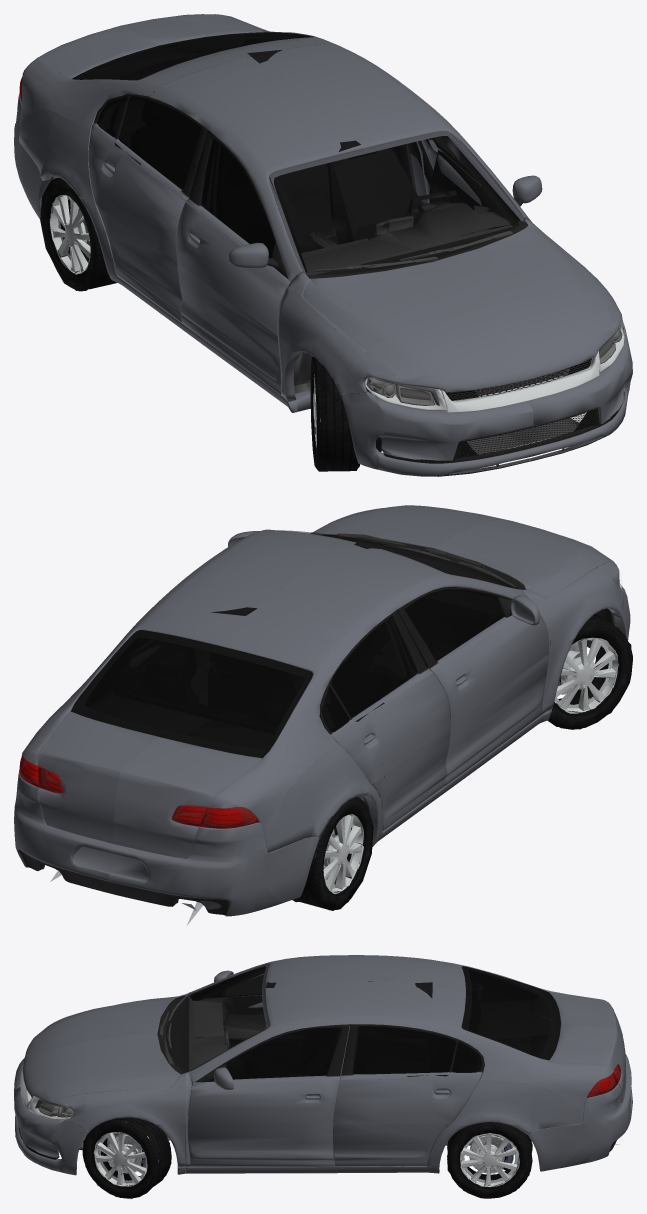
The model's file is sedan.glb.
3 views of the same model, one above another, from view 1: azimuth 30°, elevation 25°; view 2: azimuth 150°, elevation 25°; view 3: azimuth 270°, elevation 25° (orthographic). The views are drawn at different scales.
Visible parts, largest first — view 1: roof, door.R, glass.front, cockpit, nose.R, nose.L, tail.R, wheel.rear.R, glass.rear, wheel.front.R, door.L, tail.L (+4 smaller); view 2: roof, door.R, tail.R, glass.rear, tail.L, wheel.front.R, wheel.rear.R, glass.front, deck, door.L, nose.R, fender.R (+1 smaller); view 3: door.L, roof, tail.L, glass.front, glass.rear, wheel.front.L, wheel.rear.L, cockpit, nose.L, tail.R, door.R, quarter.L (+1 smaller).
Part boxes in pixels (x1,y1,x2,y2): roof: (56, 30, 621, 397); door.R: (16, 76, 359, 412); glass.front: (269, 131, 624, 399); cockpit: (114, 44, 523, 275); nose.R: (340, 355, 533, 476); nose.L: (519, 297, 632, 460); tail.R: (14, 25, 158, 219); wheel.rear.R: (40, 177, 116, 291); glass.rear: (72, 32, 313, 80); wheel.front.R: (310, 356, 360, 471); door.L: (406, 136, 622, 326); tail.L: (121, 14, 277, 47); roof: (37, 505, 619, 804); door.R: (190, 573, 621, 856); tail.R: (109, 736, 319, 916); glass.rear: (70, 630, 313, 758); tail.L: (14, 692, 157, 895); wheel.front.R: (547, 613, 632, 729); wheel.rear.R: (292, 797, 373, 910); glass.front: (279, 530, 518, 588); deck: (126, 634, 363, 734); door.L: (16, 518, 341, 818); nose.R: (581, 561, 630, 647); fender.R: (546, 638, 574, 711); door.L: (86, 1024, 621, 1174); roof: (22, 955, 585, 1108); tail.L: (528, 1023, 632, 1171); glass.front: (30, 964, 269, 1117); glass.rear: (461, 966, 560, 1060); wheel.front.L: (82, 1117, 171, 1198); wheel.rear.L: (447, 1122, 532, 1198); cockpit: (188, 963, 487, 1123); nose.L: (14, 1081, 89, 1175); tail.R: (530, 985, 632, 1100); door.R: (185, 970, 479, 1037); quarter.L: (432, 1123, 469, 1173).
Bounding box in the file's own units: 2.13 × 1.48 × 4.9.
Materials: 23 (11 with a texture image).
